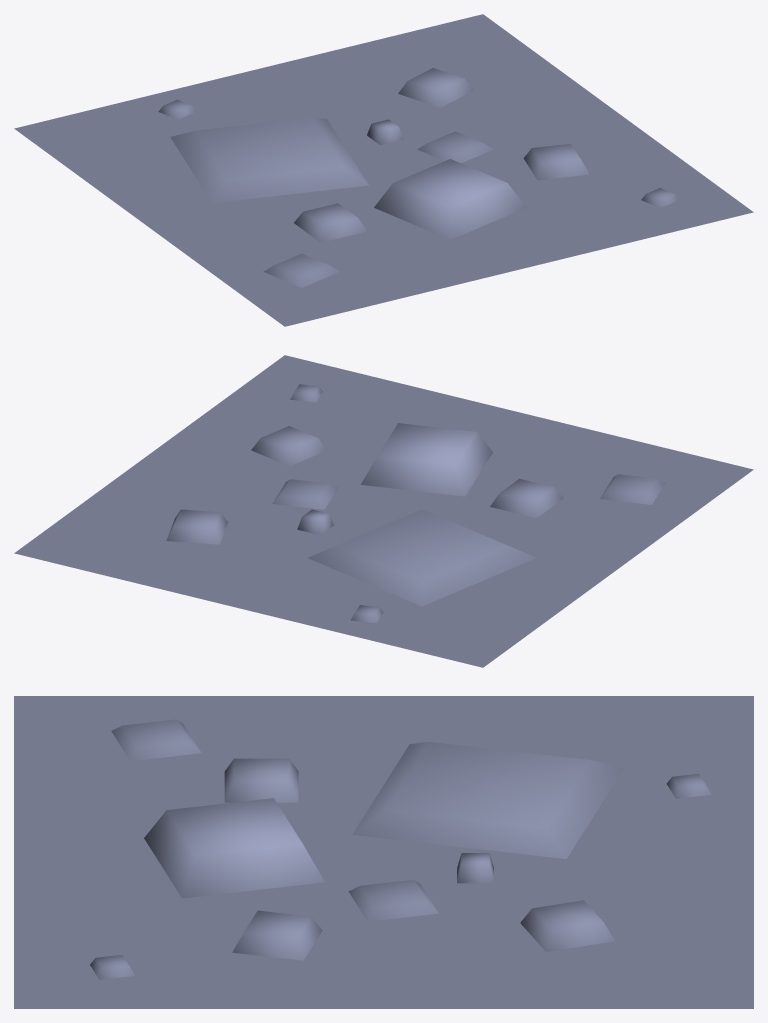
Rendered from floor-detail.glb.
3 views of the same model, one above another, from view 1: azimuth 30°, elevation 25°; view 2: azimuth 150°, elevation 25°; view 3: azimuth 270°, elevation 25° (orthographic). The views are drawn at different scales.
Parts seen in each view (by area): view 1: floor-detail; view 2: floor-detail; view 3: floor-detail.
Boxes of the visible parts, <box> form: floor-detail: <box>14,14,753,326</box>; floor-detail: <box>14,355,753,667</box>; floor-detail: <box>14,696,753,1008</box>.
Size of the model in its own units: 1 by 0.05 by 1.
Materials: 1 (1 with a texture image).
